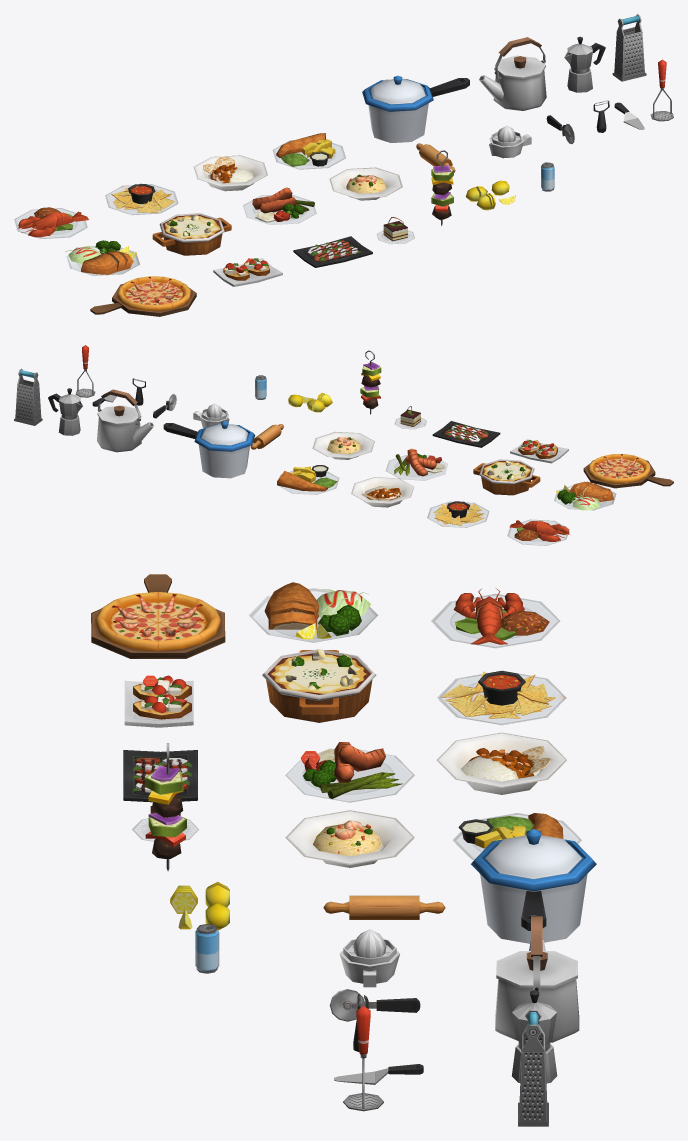
The model's file is FOOD3_256.FBX.
3 views of the same model, one above another, from view 1: azimuth 30°, elevation 25°; view 2: azimuth 150°, elevation 25°; view 3: azimuth 270°, elevation 25° (orthographic). The views are drawn at different scales.
Parts seen in each view (by area): view 1: pot (×2), kettle, pizza (×2), risotto, curry, pork cutlet, fish and chips, sausage, shrimp risotto, labster, nacho, grater (+8 smaller); view 2: pot (×2), kettle, pizza (×2), risotto, curry, fish and chips, sausage, pork cutlet, shrimp risotto, labster, nacho, grater (+8 smaller); view 3: pot (×2), pizza (×2), risotto, kettle, curry, pork cutlet, sausage, shrimp risotto, labster, nacho, brustchetta, kebab (+10 smaller).
Boxes of the visible parts, <box> form: pot (×2): <box>362,75,469,142</box>; kettle: <box>479,37,546,110</box>; pizza (×2): <box>90,276,196,316</box>; risotto: <box>152,213,231,255</box>; curry: <box>193,155,267,191</box>; pork cutlet: <box>65,240,139,275</box>; fish and chips: <box>272,133,345,169</box>; sausage: <box>243,187,316,224</box>; shrimp risotto: <box>329,167,402,200</box>; labster: <box>14,207,88,238</box>; nacho: <box>105,183,178,215</box>; grater: <box>612,14,646,81</box>; pot (×2): <box>163,421,255,478</box>; kettle: <box>97,389,154,452</box>; pizza (×2): <box>583,454,673,488</box>; risotto: <box>473,459,540,495</box>; curry: <box>351,477,413,507</box>; fish and chips: <box>277,465,339,494</box>; sausage: <box>385,448,448,480</box>; pork cutlet: <box>554,481,616,510</box>; shrimp risotto: <box>312,431,374,459</box>; labster: <box>507,519,569,545</box>; nacho: <box>427,501,489,527</box>; grater: <box>14,368,42,425</box>; pot (×2): <box>471,829,596,943</box>; pizza (×2): <box>91,574,225,658</box>; risotto: <box>262,649,376,722</box>; kettle: <box>495,916,579,1042</box>; curry: <box>436,732,566,794</box>; pork cutlet: <box>248,582,378,642</box>; sausage: <box>285,742,414,802</box>; shrimp risotto: <box>285,810,414,867</box>; labster: <box>431,588,560,648</box>; nacho: <box>437,670,566,725</box>; brustchetta: <box>124,675,193,727</box>; kebab: <box>145,743,186,871</box>.
Size of the model in its own units: 1194 by 131 by 467.
